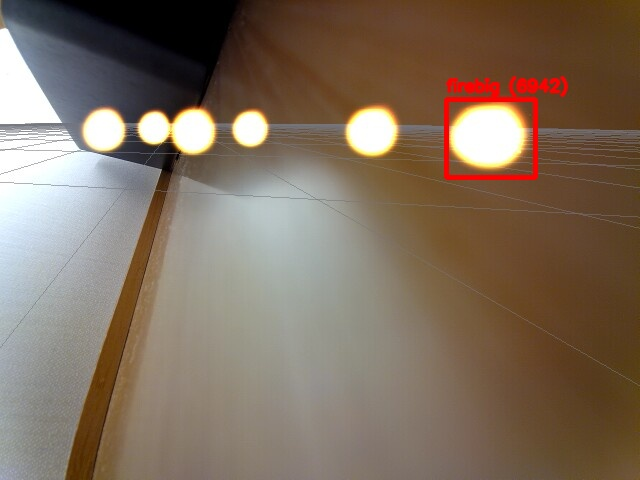firebig: (446, 99, 535, 177)
